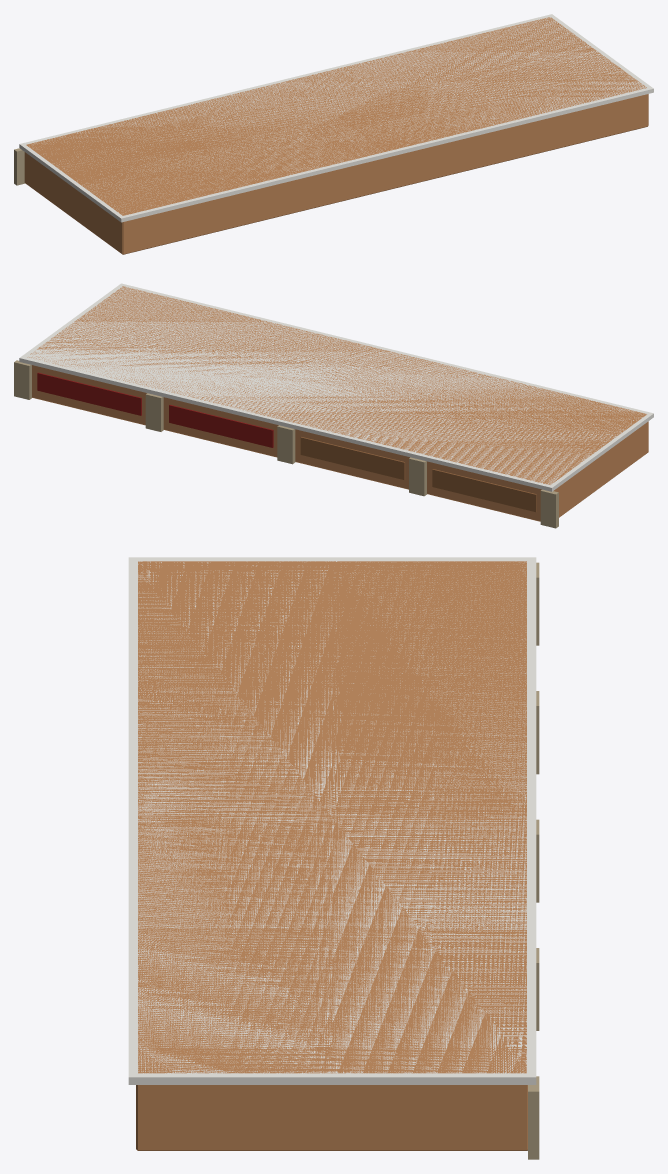
File: SM_Pulpitum.fbx
3 renders of one model, top to bottom at view 1: azimuth 30°, elevation 25°; view 2: azimuth 150°, elevation 25°; view 3: azimuth 270°, elevation 25°, orthographic. The views are drawn at different scales.
Parts seen in each view (by area): view 1: SM_Pulpitum; view 2: SM_Pulpitum; view 3: SM_Pulpitum.
Boxes of the visible parts, <box> form: SM_Pulpitum: <box>14,14,653,254</box>; SM_Pulpitum: <box>14,283,653,528</box>; SM_Pulpitum: <box>128,557,539,1159</box>.
Size of the model in its own units: 17.5 by 5.74 by 1.2.
